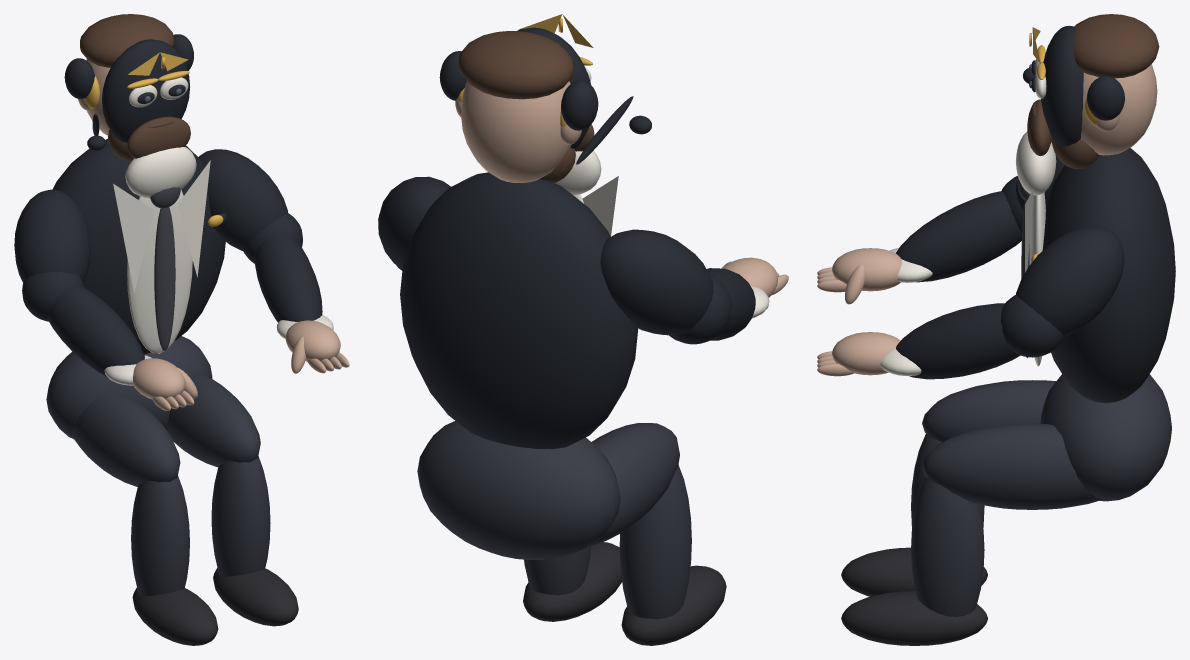
The model's file is commentator_excalibur.glb.
3 views of the same model, side by side, from view 1: azimuth 30°, elevation 25°; view 2: azimuth 150°, elevation 25°; view 3: azimuth 270°, elevation 25° (orthographic). The views are drawn at different scales.
Parts seen in each view (by area): view 1: ExcaliburBody, ArmLeft, ExcaliburHead, ArmRight; view 2: ExcaliburBody, ExcaliburHead, ArmLeft, ArmRight; view 3: ExcaliburBody, ArmRight, ExcaliburHead, ArmLeft.
Boxes of the visible parts, bbox=[...] form: ExcaliburBody: bbox=[46, 139, 298, 645]; ArmLeft: bbox=[14, 189, 197, 410]; ExcaliburHead: bbox=[64, 14, 193, 161]; ArmRight: bbox=[198, 149, 349, 373]; ExcaliburBody: bbox=[400, 150, 726, 645]; ExcaliburHead: bbox=[439, 14, 651, 182]; ArmLeft: bbox=[600, 229, 788, 344]; ArmRight: bbox=[378, 176, 450, 270]; ExcaliburBody: bbox=[841, 131, 1175, 645]; ArmRight: bbox=[817, 226, 1124, 379]; ExcaliburHead: bbox=[1023, 14, 1159, 169]; ArmLeft: bbox=[817, 155, 1064, 304].
Size of the model in its own units: 0.95 by 1.79 by 0.975.
